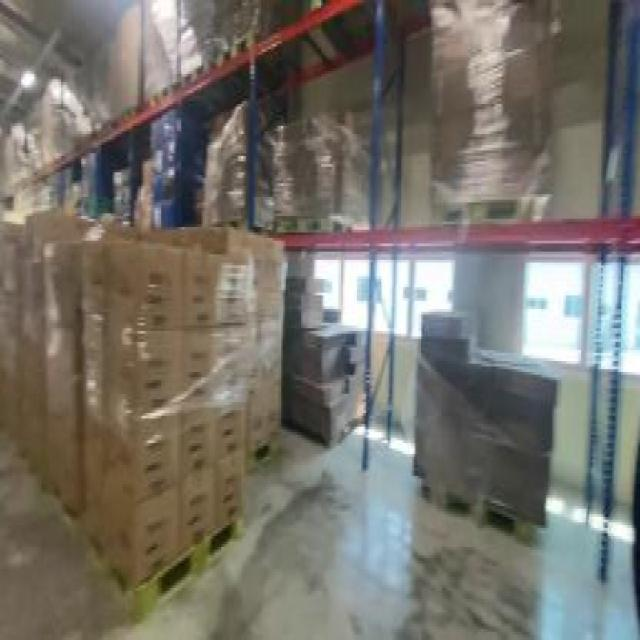box: (2, 199, 286, 602), (400, 309, 565, 558), (428, 3, 552, 235), (278, 266, 369, 452), (271, 104, 371, 243), (194, 110, 271, 232), (134, 115, 203, 241), (59, 49, 110, 140), (134, 0, 181, 93), (105, 2, 138, 118), (16, 90, 62, 170), (174, 2, 218, 76), (110, 156, 136, 241), (72, 156, 103, 221)
